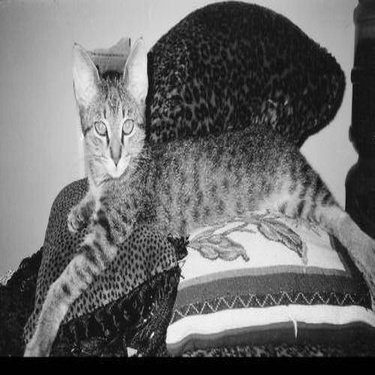cat: (41, 33, 366, 338)
